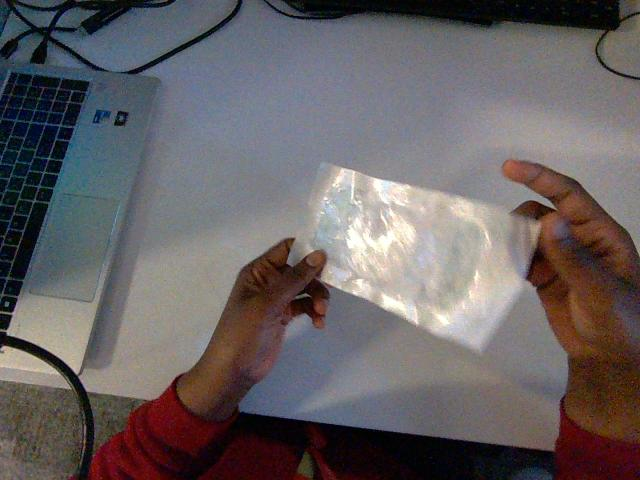gallipot: (289, 163, 539, 350)
